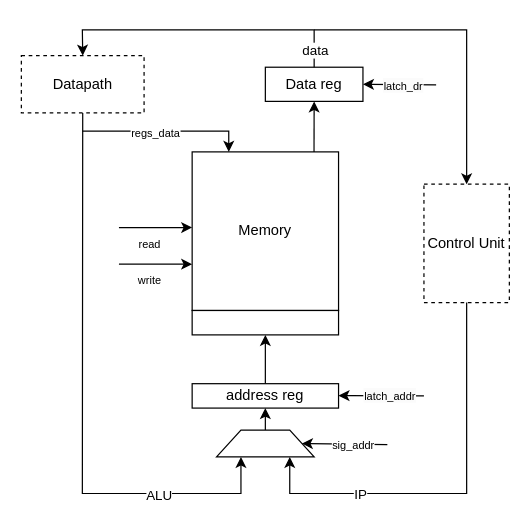
The diagram is 531 pixels wide and 525 high, and some of its shapes have lost their labels. The shapes that lost their labels are listed below. From the top down, each one's centre as x and y in pixels, then its label:
the point at 265,322: Stack
the point at 264,443: MUX
